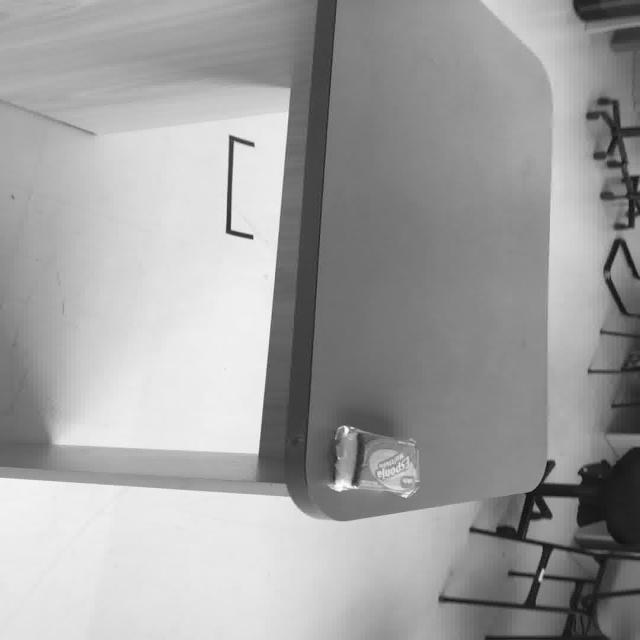sponge: (330, 425, 419, 497), (357, 437, 418, 492), (331, 426, 359, 488)
